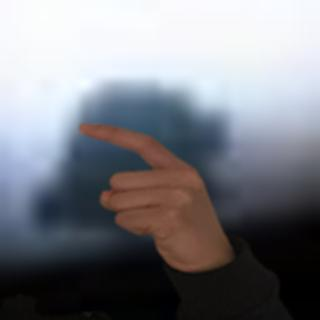WHY: (70, 115, 231, 270)
